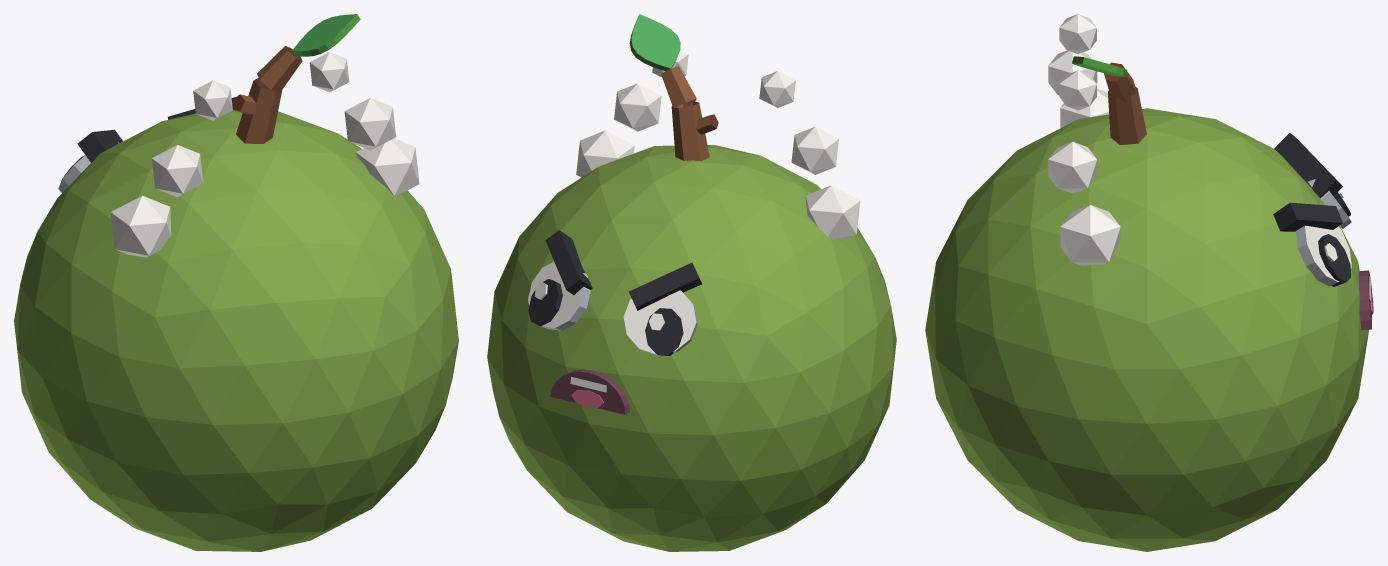
Rendered from CH_Dalcik_T5.fbx.
The picture shows the model from 3 angles, left to right: view 1: azimuth 30°, elevation 25°; view 2: azimuth 150°, elevation 25°; view 3: azimuth 270°, elevation 25°; orthographic projection. The views are drawn at different scales.
Parts seen in each view (by area): view 1: CH_Dalcik_T5; view 2: CH_Dalcik_T5; view 3: CH_Dalcik_T5.
Boxes of the visible parts, x1=… form: CH_Dalcik_T5: x1=14, y1=14, x2=458, y2=551; CH_Dalcik_T5: x1=487, y1=14, x2=896, y2=551; CH_Dalcik_T5: x1=925, y1=14, x2=1373, y2=551.
Size of the model in its own units: 1 by 1.29 by 1.01.
